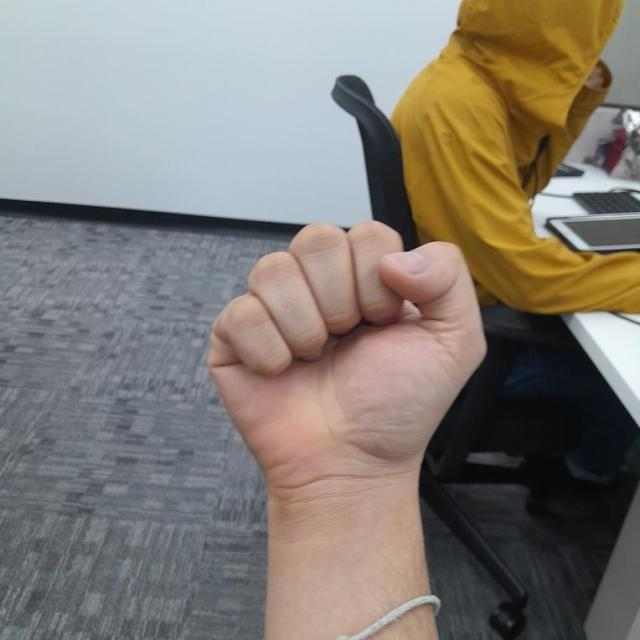fist: (203, 221, 491, 483)
